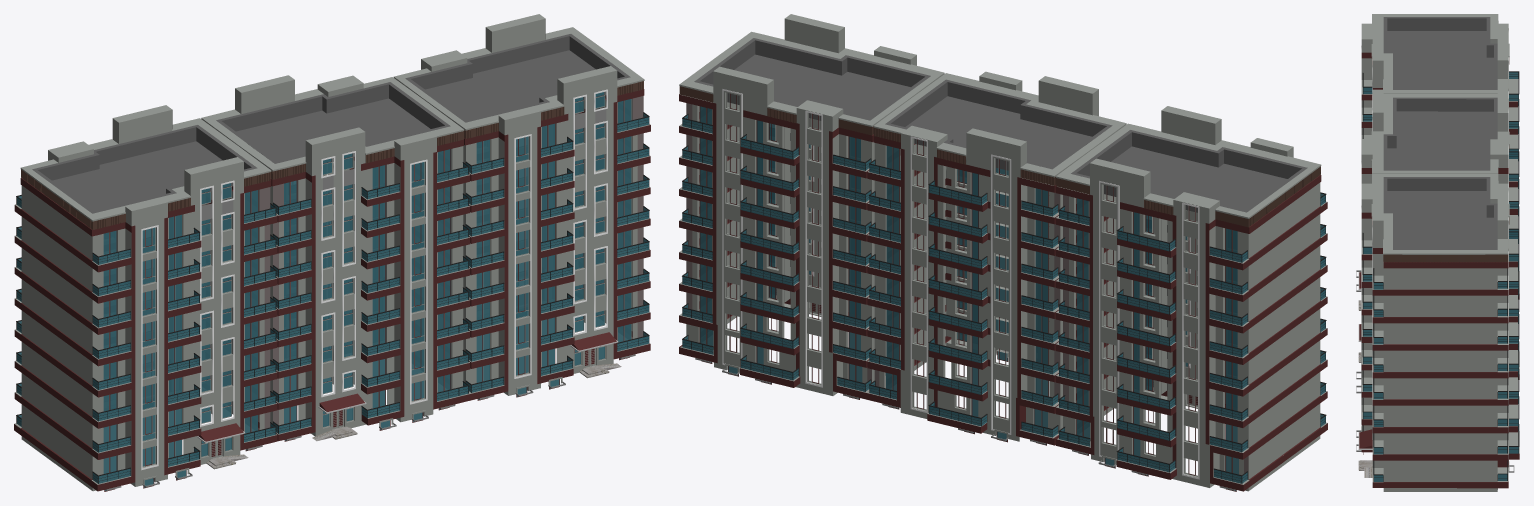
3 views of the same model, side by side, from view 1: azimuth 30°, elevation 25°; view 2: azimuth 150°, elevation 25°; view 3: azimuth 270°, elevation 25° (orthographic). The views are drawn at different scales.
Parts seen in each view (by area): view 1: Plane006, Plane009, Plane003, Object007_Material #26_0, Object023_Material #26_0, Object039_Material #26_0, Line001, Line004, Line007, Object006_Material #26_0, Object002_Material #26_0, Object001_Material #26_0 (+53 smaller); view 2: Plane006, Plane009, Plane003, Line002, Object007_Material #26_0, Line008, Line005, Object047_Material #26_0, Object015_Material #26_0, Object031_Material #26_0, Object039_Material #26_0, Object023_Material #26_0 (+56 smaller); view 3: Plane006, Plane003, Plane009, Object039_Material #26_0, Object007_Material #26_0, Line008, Line007, Object023_Material #26_0, Object033_Material #26_0, Object034_Material #26_0, Object036_Material #26_0, Object038_Material #26_0 (+35 smaller).
Part boxes in pixels (<box>): Plane006: <box>216,82,450,163</box>; Plane009: <box>405,34,630,122</box>; Plane003: <box>32,125,257,213</box>; Object007_Material #26_0: <box>52,146,277,265</box>; Object023_Material #26_0: <box>239,100,469,215</box>; Object039_Material #26_0: <box>425,55,650,174</box>; Line001: <box>53,412,277,491</box>; Line004: <box>270,371,470,441</box>; Line007: <box>463,321,650,400</box>; Object006_Material #26_0: <box>53,224,276,296</box>; Object002_Material #26_0: <box>53,349,276,422</box>; Object001_Material #26_0: <box>53,381,276,453</box>; Plane006: <box>885,79,1112,170</box>; Plane009: <box>694,38,930,120</box>; Plane003: <box>1071,130,1307,212</box>; Line002: <box>1055,394,1283,491</box>; Object007_Material #26_0: <box>1094,106,1326,234</box>; Line008: <box>679,309,874,399</box>; Line005: <box>867,345,1062,445</box>; Object047_Material #26_0: <box>679,56,904,131</box>; Object015_Material #26_0: <box>1056,148,1281,223</box>; Object031_Material #26_0: <box>873,102,1093,185</box>; Object039_Material #26_0: <box>718,14,944,102</box>; Object023_Material #26_0: <box>906,71,1126,148</box>; Plane006: <box>1383,97,1497,170</box>; Plane003: <box>1383,17,1497,89</box>; Plane009: <box>1383,177,1497,249</box>; Object039_Material #26_0: <box>1361,174,1441,289</box>; Object007_Material #26_0: <box>1361,14,1441,94</box>; Line008: <box>1442,431,1519,491</box>; Line007: <box>1361,425,1442,491</box>; Object023_Material #26_0: <box>1361,89,1441,183</box>; Object033_Material #26_0: <box>1361,397,1441,454</box>; Object034_Material #26_0: <box>1361,370,1441,427</box>; Object036_Material #26_0: <box>1361,315,1441,372</box>; Object038_Material #26_0: <box>1361,260,1441,317</box>.
Size of the model in its own units: 61.78 by 31.37 by 17.8.
11 materials, 3 textured.
